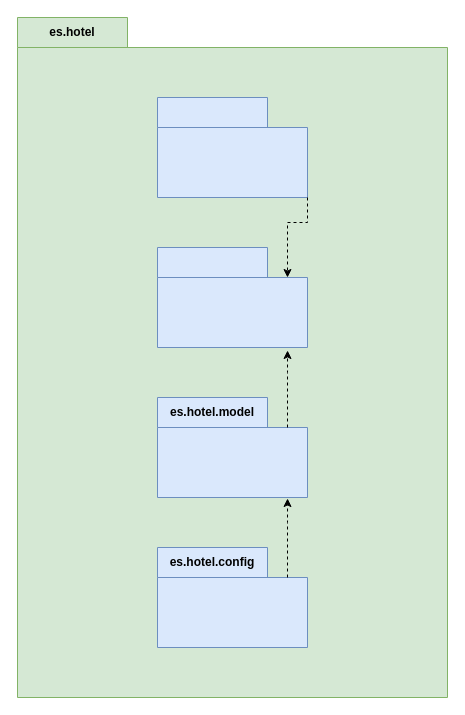
This 465x715 diagram has some shape labels left out. The box of each missing label's shape, as (x1, y1, x2, y2) in pixels:
es.hotel.controler: (156, 246, 308, 348)
es.hotel.view: (156, 96, 308, 198)
